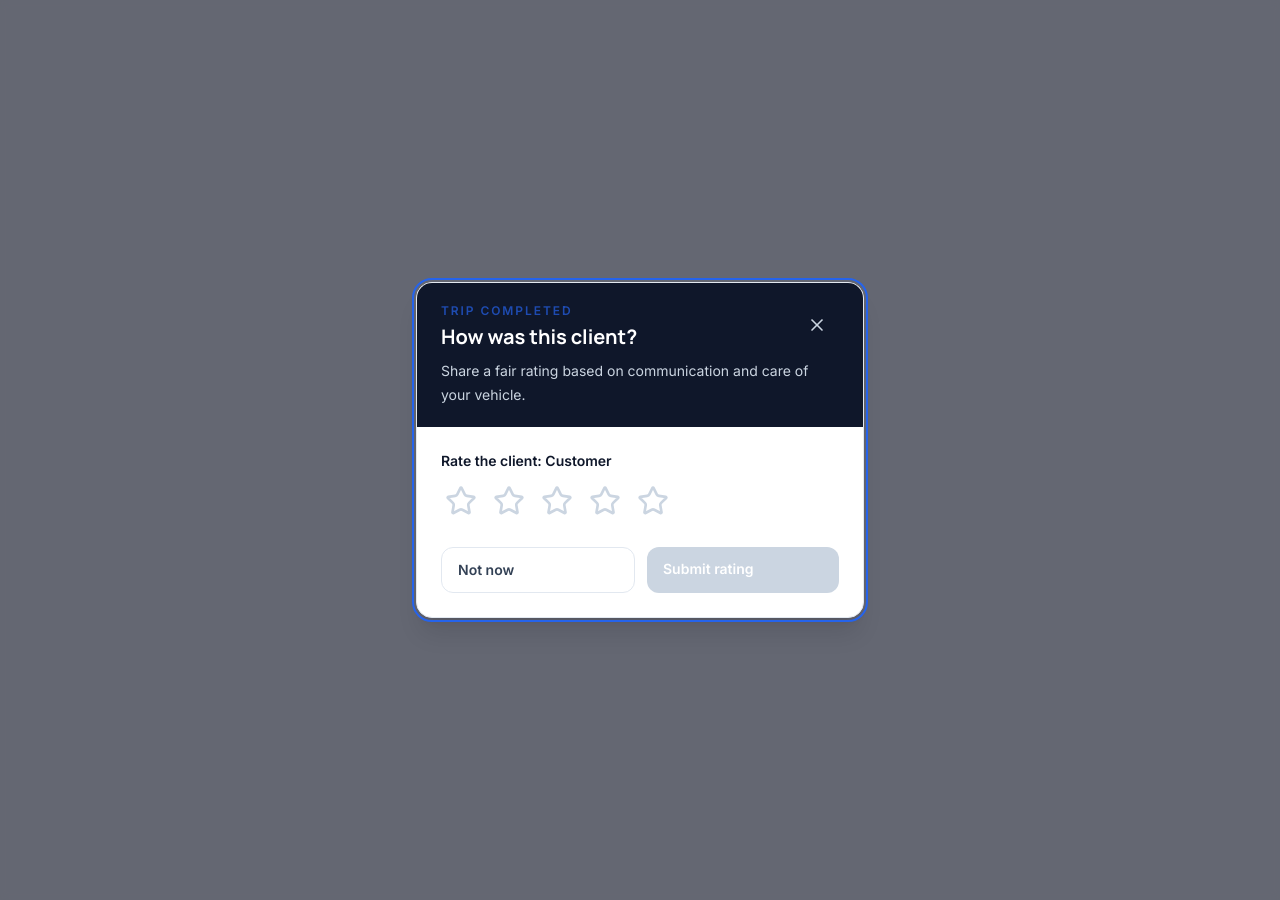
Test: RatingModal › shows the API error and keeps the form open
Click the button named "5 stars" at (655, 501), box [633,479,677,523]
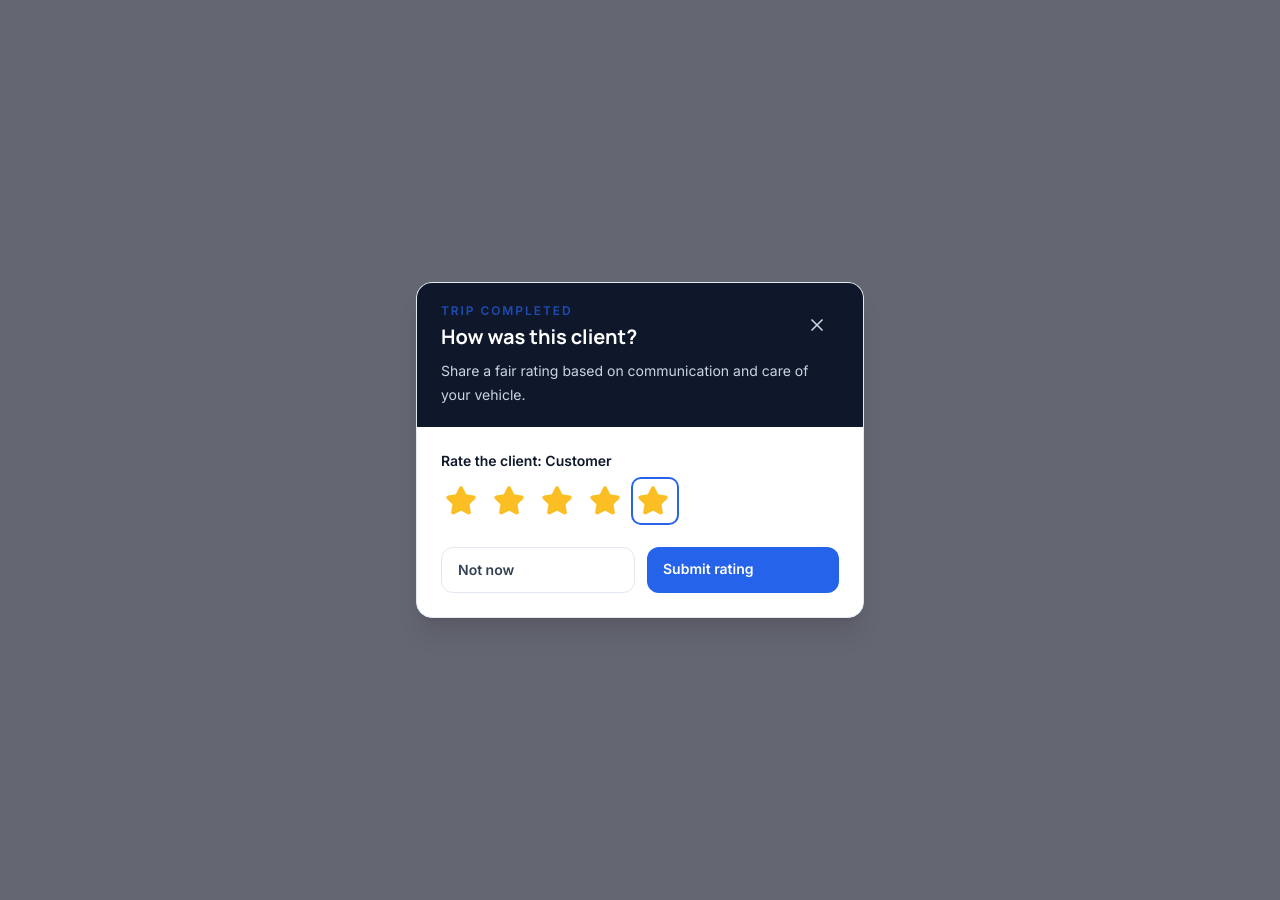
Click the button "Submit rating" at (743, 570), box [647,547,839,593]
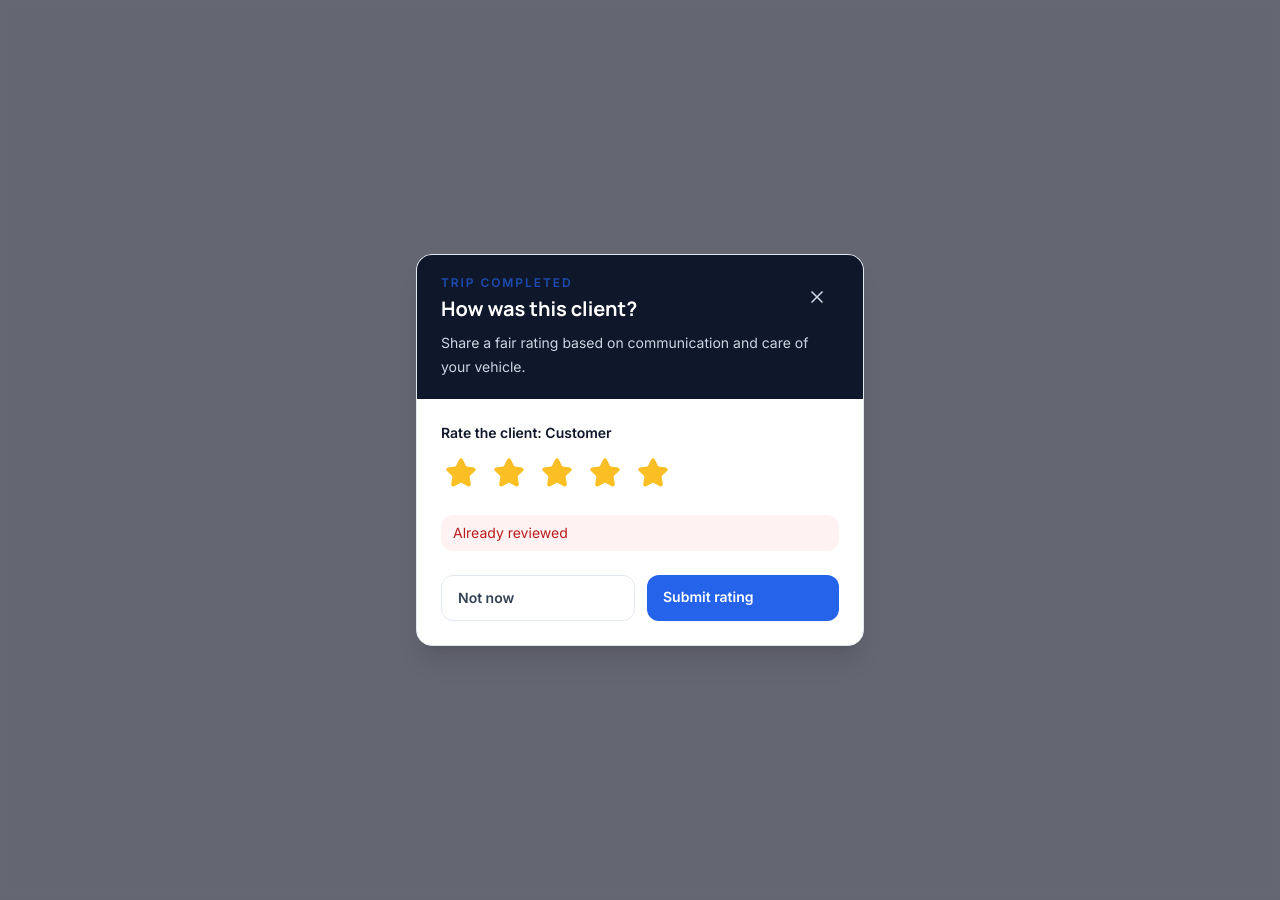
Expected: the message reads "Already reviewed", [453,524,568,541]
